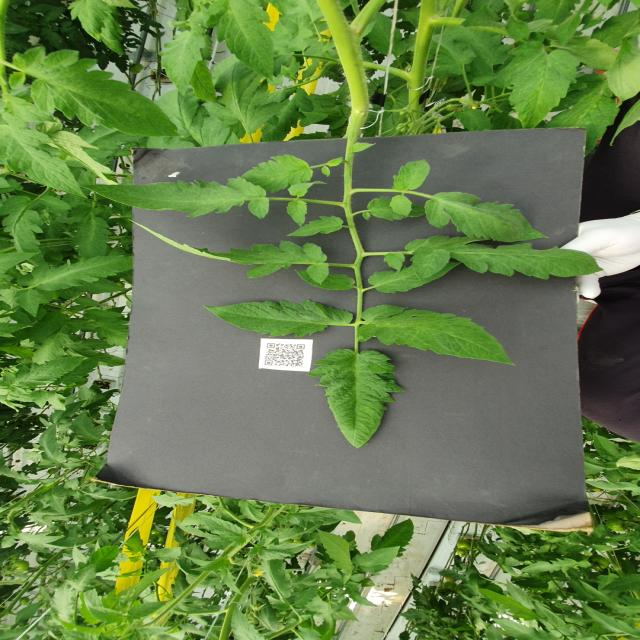Healthy Leaf: (13, 47, 184, 139), (129, 219, 331, 286), (307, 349, 407, 450), (358, 305, 517, 368), (406, 237, 602, 282), (79, 178, 272, 221), (206, 55, 287, 136), (1, 126, 89, 200), (426, 193, 551, 244), (201, 300, 354, 339), (207, 1, 276, 83), (19, 256, 134, 291), (158, 31, 207, 97), (1, 196, 46, 267), (368, 263, 463, 296), (262, 88, 317, 143), (241, 156, 315, 195), (577, 600, 640, 638), (476, 588, 545, 622), (16, 356, 87, 388), (592, 8, 640, 49), (83, 309, 130, 350), (70, 217, 113, 260), (315, 529, 356, 574), (68, 1, 112, 42), (197, 513, 249, 547), (370, 12, 408, 58), (372, 519, 416, 558), (51, 356, 103, 387), (492, 618, 563, 640), (368, 196, 427, 222), (259, 558, 295, 600), (31, 333, 75, 365), (29, 310, 69, 345), (295, 270, 356, 292), (285, 505, 343, 528), (70, 410, 107, 446), (232, 603, 268, 640), (259, 539, 319, 561), (353, 547, 401, 574), (392, 160, 432, 192), (76, 545, 120, 574), (39, 423, 69, 465), (287, 216, 346, 237), (592, 433, 630, 463), (129, 601, 170, 625), (454, 109, 496, 132), (505, 579, 536, 610), (521, 559, 579, 575), (87, 606, 128, 627), (70, 564, 99, 592), (15, 289, 42, 319), (124, 526, 151, 556), (152, 493, 196, 509), (603, 574, 640, 593), (289, 181, 328, 198), (190, 557, 228, 574), (90, 490, 139, 503), (287, 201, 310, 228), (294, 586, 321, 607), (16, 601, 44, 621), (385, 254, 407, 276), (391, 196, 413, 218), (42, 197, 75, 211), (32, 390, 50, 410), (64, 478, 81, 491)
